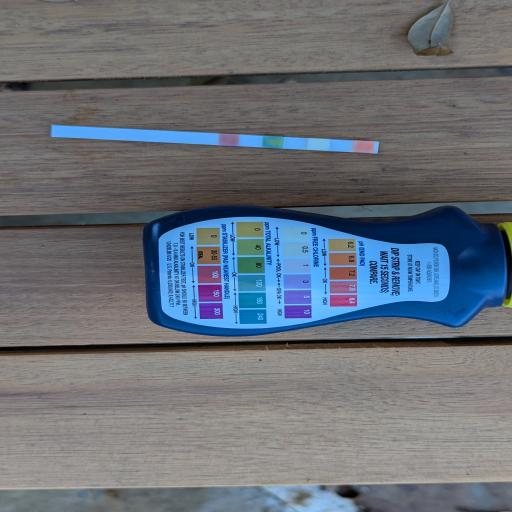label: (156, 209, 453, 328)
strip: (51, 124, 380, 154)
